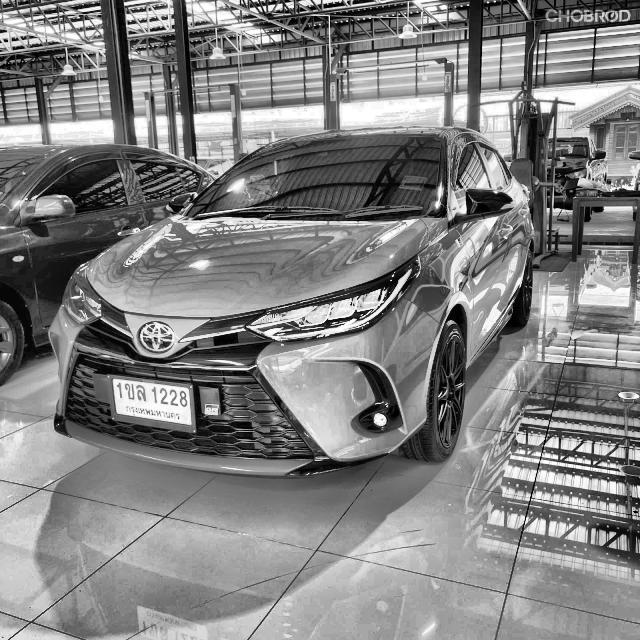license-plate: (96, 366, 234, 442)
